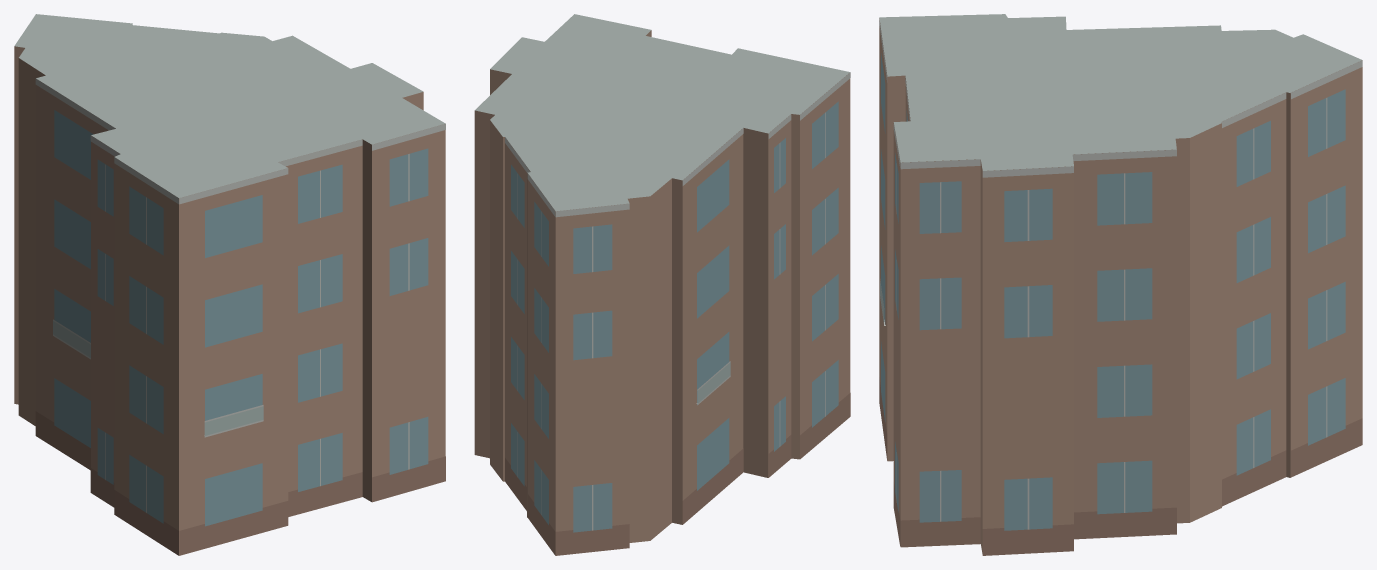
Rendered from survey-upis-32955978.glb.
3 views of the same model, side by side, from view 1: azimuth 30°, elevation 25°; view 2: azimuth 150°, elevation 25°; view 3: azimuth 270°, elevation 25° (orthographic). The views are drawn at different scales.
Visible parts, largest first — view 1: survey-upis-32955978.tmp; view 2: survey-upis-32955978.tmp; view 3: survey-upis-32955978.tmp.
Part boxes in pixels (box(x1,y1,x2,y2)): survey-upis-32955978.tmp: box(14, 14, 445, 555); survey-upis-32955978.tmp: box(474, 14, 850, 555); survey-upis-32955978.tmp: box(879, 14, 1362, 555).
Bounding box in the file's own units: 12.21 × 13.95 × 15.88.
